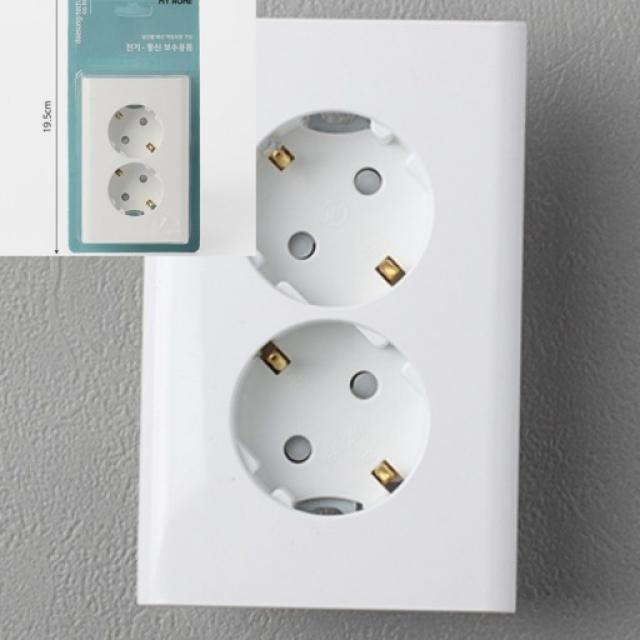typeb: (232, 12, 540, 616), (70, 59, 198, 250)
